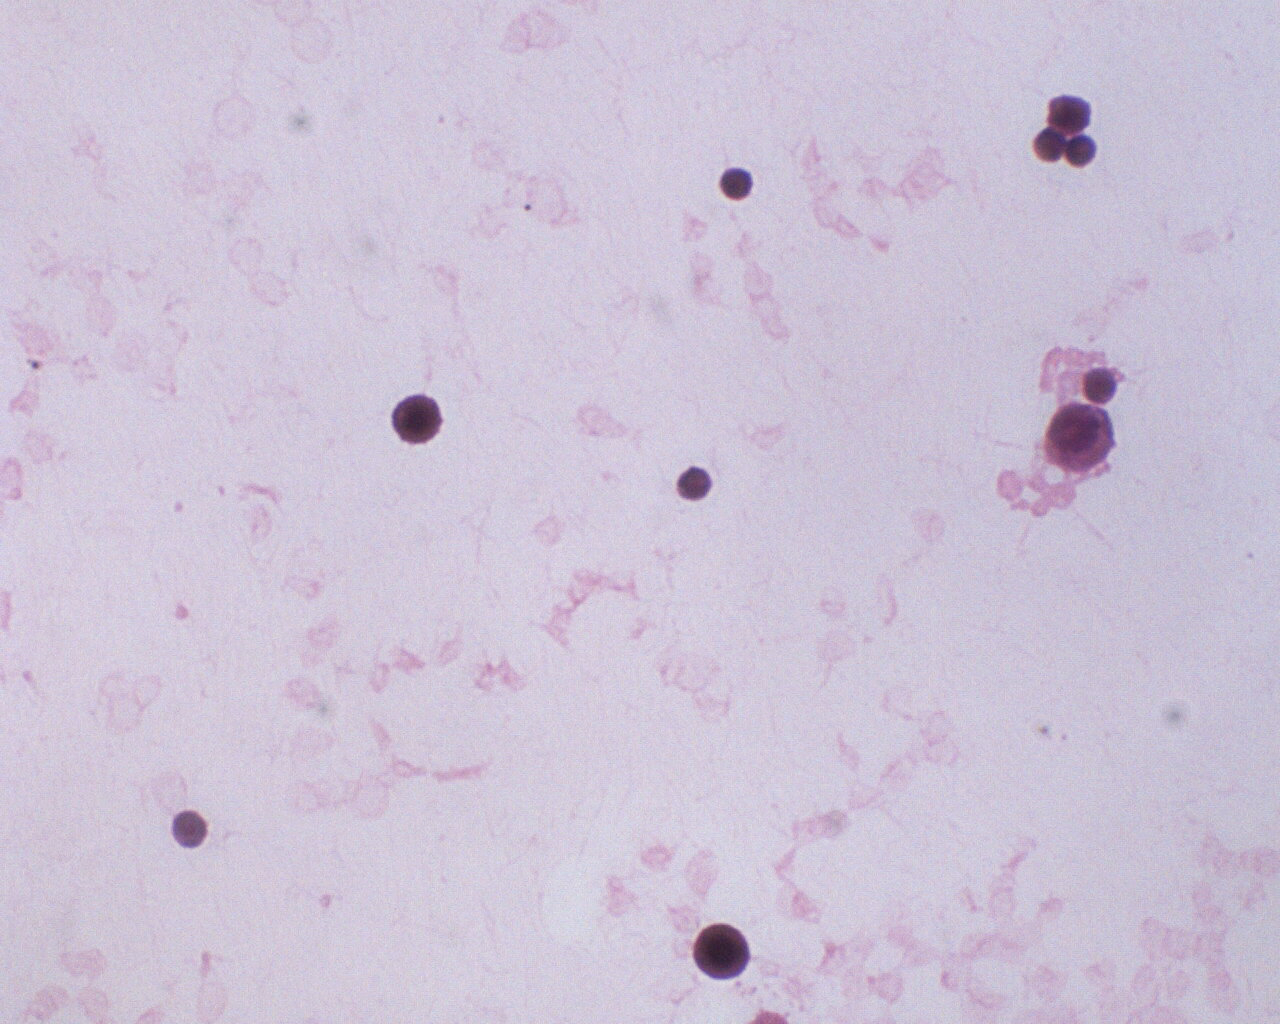ab: (387, 391, 445, 449), (1046, 88, 1093, 137)
lymph: (709, 161, 760, 206), (676, 459, 719, 506)
meso: (1042, 402, 1120, 475), (692, 920, 751, 983)
